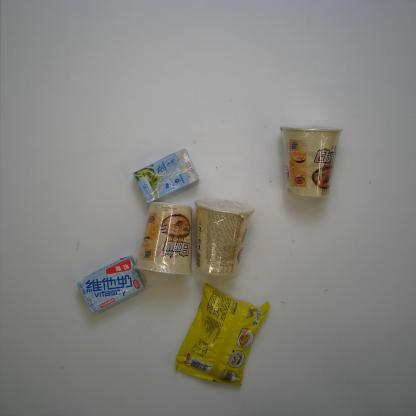Instant Noodles: (175, 283, 270, 386), (194, 198, 255, 278), (280, 124, 343, 199), (133, 201, 195, 276)
Milk: (76, 256, 146, 316), (133, 148, 200, 204)
